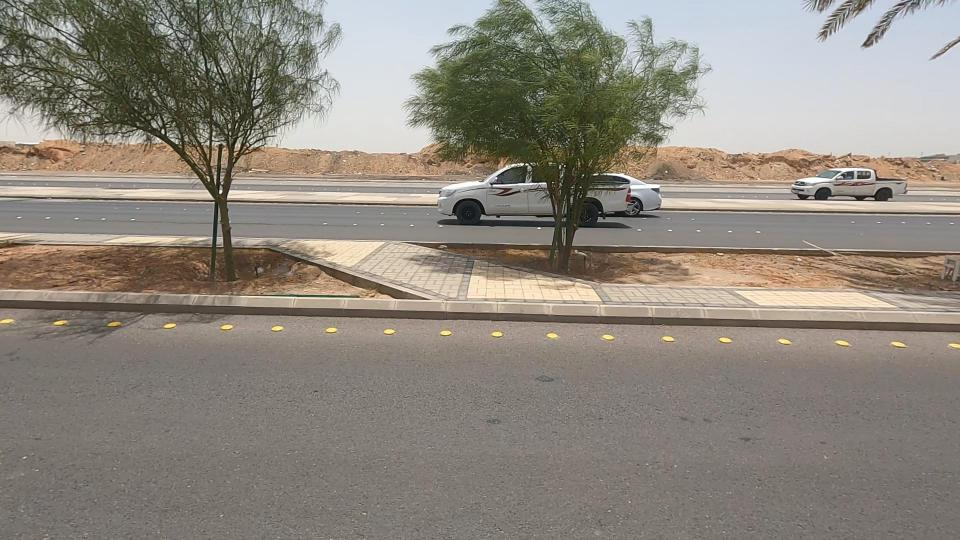CLUTTER_SIDEWALK: (491, 204, 960, 339), (0, 207, 434, 342)
GARBAGE: (210, 236, 325, 302)
